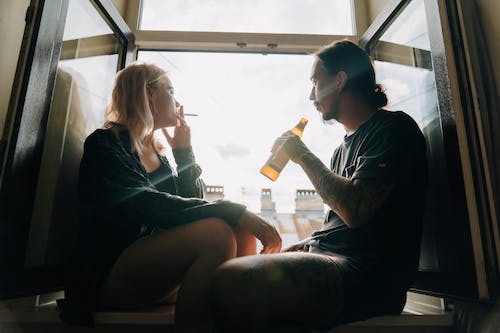alcohol: (257, 115, 309, 183)
cigarette: (183, 113, 199, 118)
